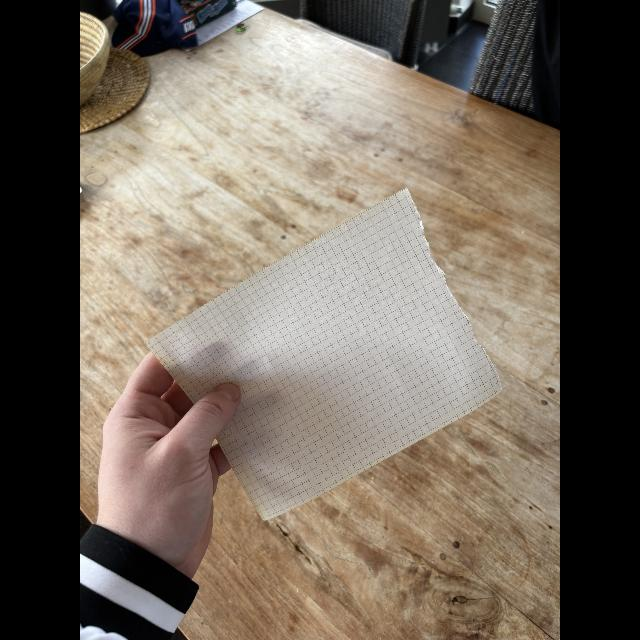Paper: (141, 186, 509, 524)
